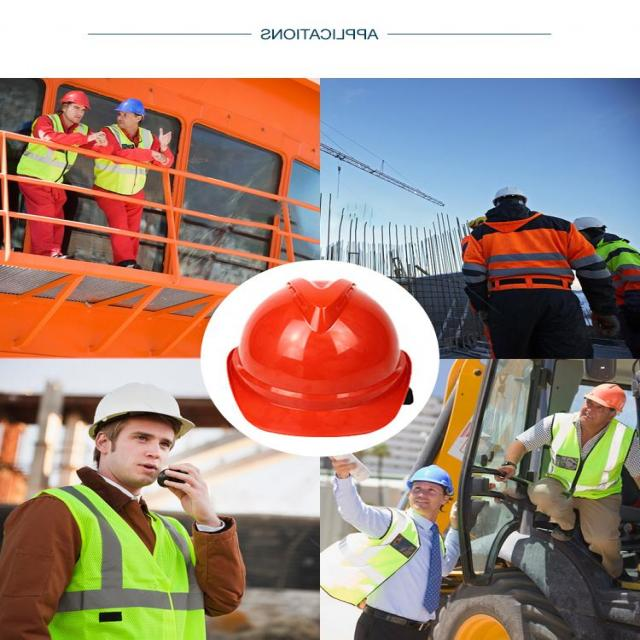Reflective-Jacket: (21, 482, 214, 640), (320, 505, 455, 609), (529, 414, 638, 510), (462, 216, 584, 298), (14, 114, 86, 185), (92, 125, 155, 199), (588, 232, 639, 300)
Safety-Helmet: (225, 275, 418, 438), (84, 376, 198, 441), (579, 380, 629, 413), (404, 462, 456, 492), (482, 179, 536, 207), (565, 210, 611, 236), (57, 88, 94, 110), (112, 96, 149, 116)
